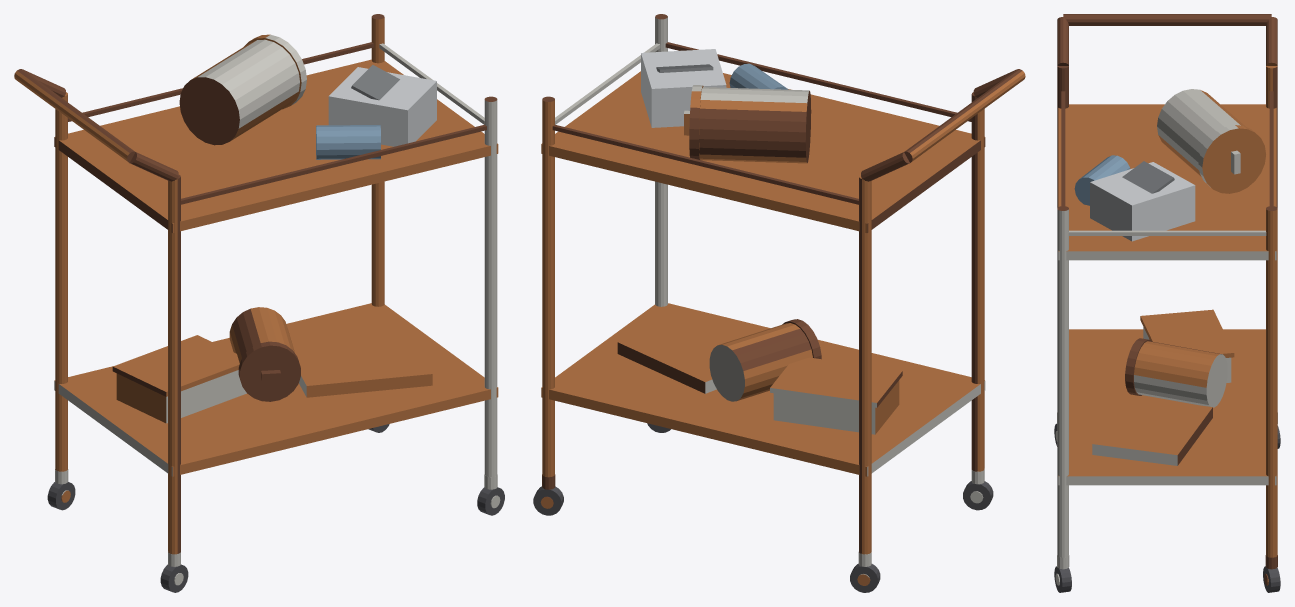
Rendered from wagon_v2.fbx.
3 renders of one model, left to right at view 1: azimuth 30°, elevation 25°; view 2: azimuth 150°, elevation 25°; view 3: azimuth 270°, elevation 25°, orthographic. The views are drawn at different scales.
Parts seen in each view (by area): view 1: 10_TreatmentCart_Damaged_Mesh; view 2: 10_TreatmentCart_Damaged_Mesh; view 3: 10_TreatmentCart_Damaged_Mesh.
Boxes of the visible parts, bbox=[...] form: 10_TreatmentCart_Damaged_Mesh: bbox=[14, 14, 504, 592]; 10_TreatmentCart_Damaged_Mesh: bbox=[533, 14, 1025, 592]; 10_TreatmentCart_Damaged_Mesh: bbox=[1054, 14, 1280, 592].
Bounding box in the file's own units: 81.06 × 92.2 × 45.53.
